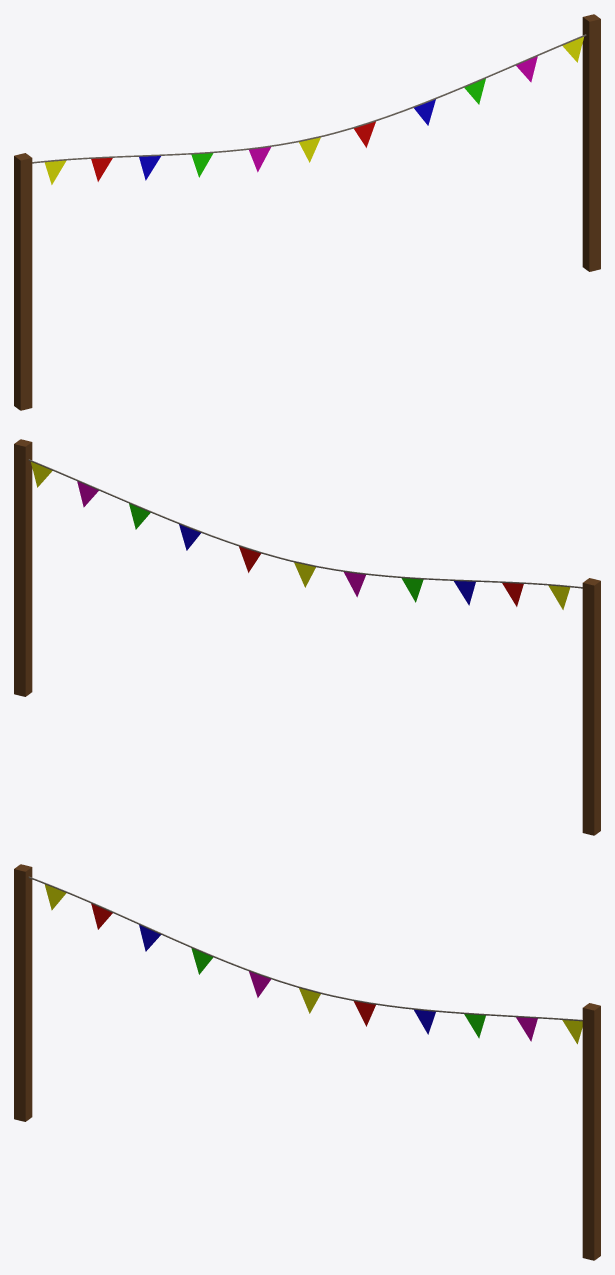
The picture shows the model from 3 angles, top to bottom: view 1: azimuth 30°, elevation 25°; view 2: azimuth 150°, elevation 25°; view 3: azimuth 330°, elevation 25°; orthographic projection.
Parts seen in each view (by area): view 1: Cube; view 2: Cube; view 3: Cube.
Part boxes in pixels (left/top/right/bottom): Cube: left=14, top=14, right=600, bottom=410; Cube: left=14, top=439, right=600, bottom=835; Cube: left=14, top=864, right=600, bottom=1260.
Size of the model in its own units: 938 by 386 by 18.67.
